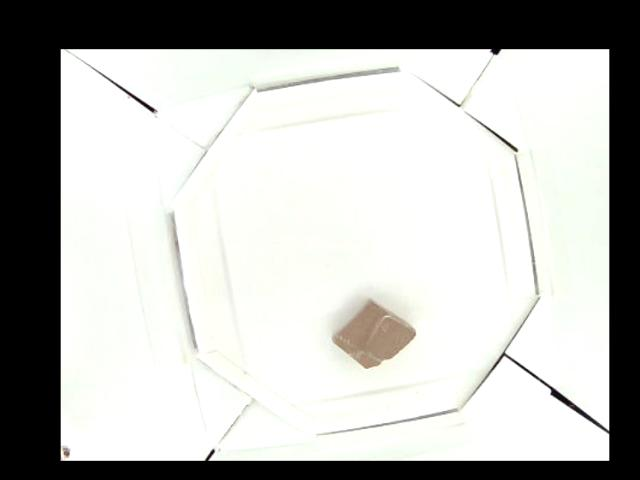China: (329, 302, 418, 367)
